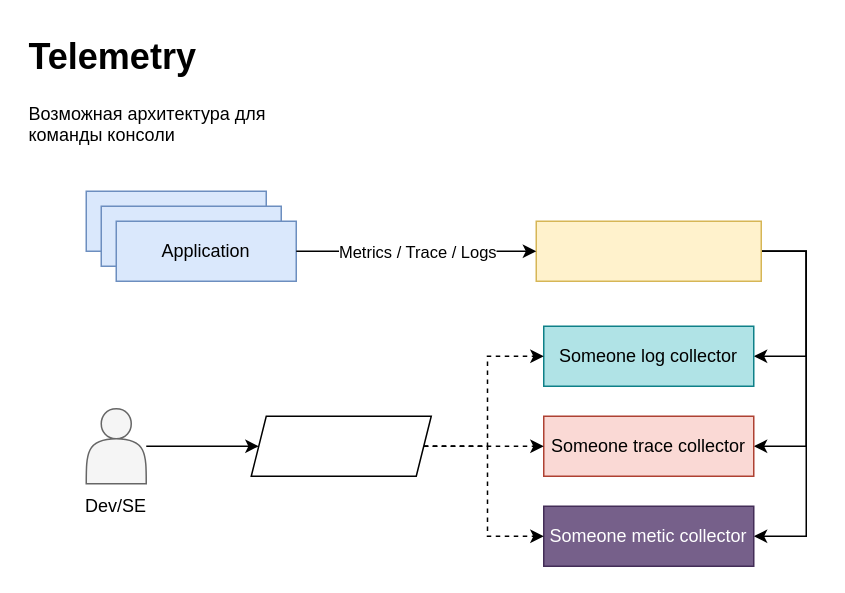
The diagram is 845 pixels wide and 593 high, and some of its shapes have lost their labels. Each missing label, with the centre of its shape:
Grafana: [340,445]
OTLP Collector: [648,250]
